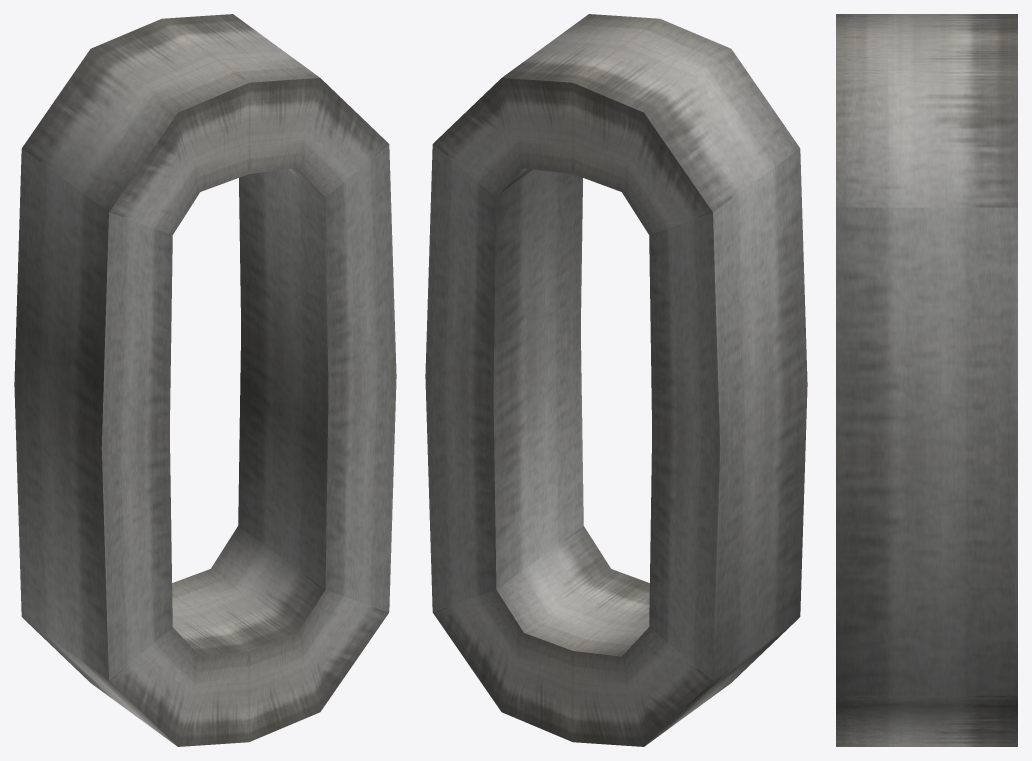
The model's file is chain.fbx.
3 views of the same model, side by side, from view 1: azimuth 30°, elevation 25°; view 2: azimuth 150°, elevation 25°; view 3: azimuth 270°, elevation 25° (orthographic). The views are drawn at different scales.
Visible parts, largest first — view 1: chain; view 2: chain; view 3: chain.
Boxes of the visible parts, x1,y1,x2,y2 form: chain: [14, 14, 396, 746]; chain: [425, 14, 807, 746]; chain: [836, 14, 1017, 746].
Bounding box in the file's own units: 9.8 × 20.94 × 5.03.
